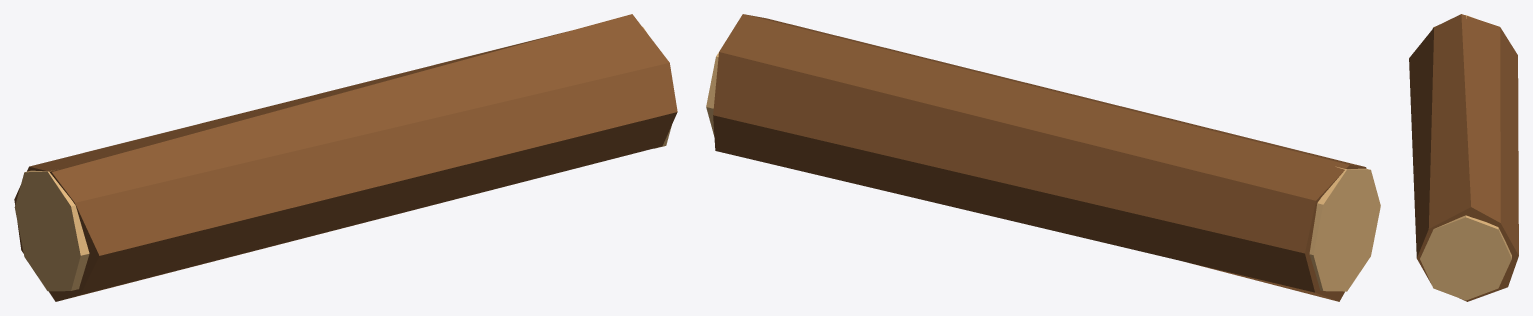
The model's file is buche.glb.
3 views of the same model, side by side, from view 1: azimuth 30°, elevation 25°; view 2: azimuth 150°, elevation 25°; view 3: azimuth 270°, elevation 25° (orthographic). The views are drawn at different scales.
Visible parts, largest first — view 1: Cylinder, Cylinder.001; view 2: Cylinder, Cylinder.001; view 3: Cylinder, Cylinder.002.
Part boxes in pixels (x1,y1,x2,y2): Cylinder: [14, 14, 677, 301]; Cylinder.001: [14, 170, 89, 291]; Cylinder: [713, 14, 1366, 301]; Cylinder.001: [1309, 166, 1380, 291]; Cylinder: [1409, 14, 1518, 301]; Cylinder.002: [1420, 215, 1511, 300].
Bounding box in the file's own units: 1.02 × 0.2349 × 0.2343.
